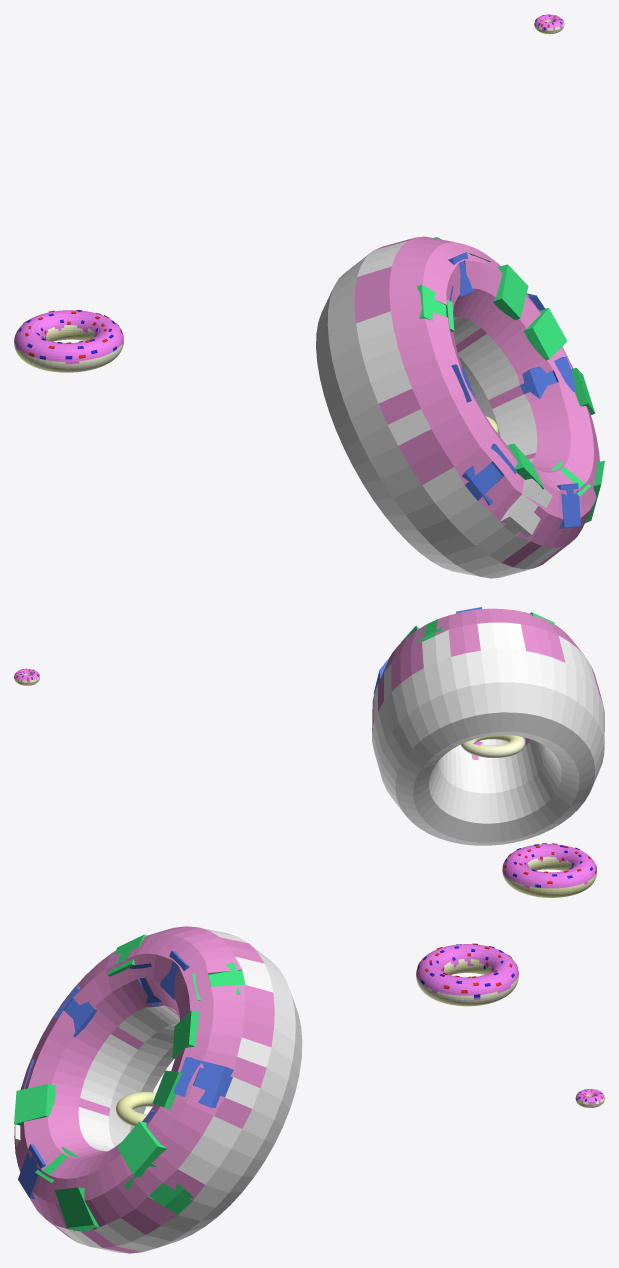
Rendered from TestingBlenderDONOUGHT.glb.
3 views of the same model, one above another, from view 1: azimuth 30°, elevation 25°; view 2: azimuth 150°, elevation 25°; view 3: azimuth 270°, elevation 25° (orthographic). The views are drawn at different scales.
Visible parts, largest first — view 1: Torus.001, Torus.003; view 2: Torus.001, Torus.003, SurfTorus; view 3: Torus.001, Torus.003, SurfTorus, Torus.
Part boxes in pixels (bbox=[...]): Torus.001: bbox=[316, 236, 604, 578]; Torus.003: bbox=[14, 310, 123, 372]; Torus.001: bbox=[372, 607, 604, 845]; Torus.003: bbox=[502, 843, 597, 897]; SurfTorus: bbox=[461, 735, 524, 758]; Torus.001: bbox=[14, 926, 302, 1253]; Torus.003: bbox=[416, 943, 518, 1006]; SurfTorus: bbox=[116, 1092, 156, 1126]; Torus: bbox=[575, 1089, 604, 1107].
Bounding box in the file's own units: 74.88 × 35.45 × 65.18.
Materials: 14 (10 with a texture image).
